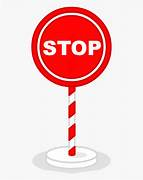stop: (31, 6, 112, 87)
